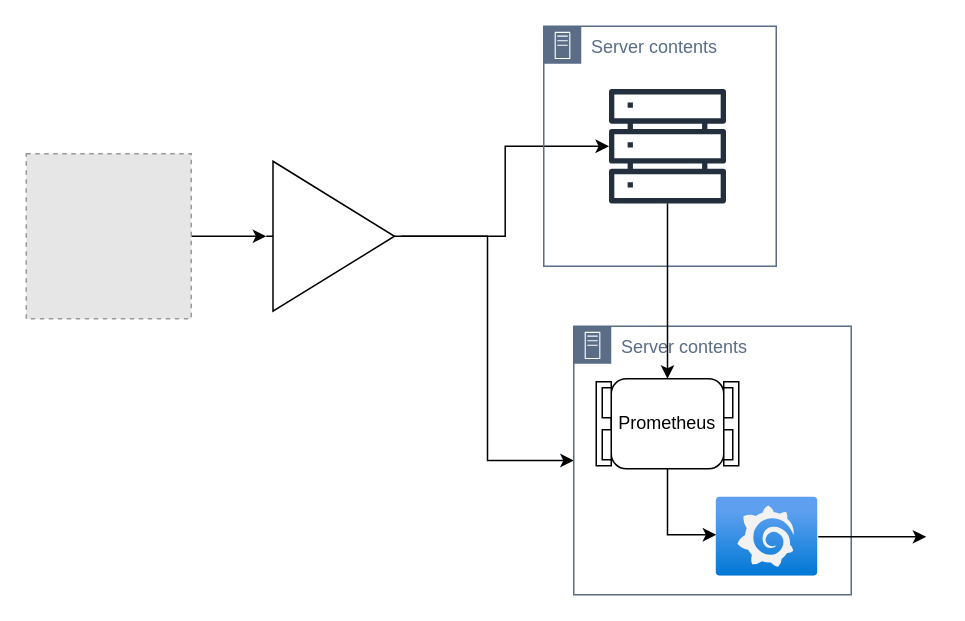
Some shapes in this 965 by 621 pixel diagram are drawn without their labels. Grey dashed boxes stand in for pictures. The shapes that lost their labels are listed below. From the top down, each one's centre as x and y in pixels, then its label:
At point 666,145: "Target Servers".
At point 333,235: "Ansible".
